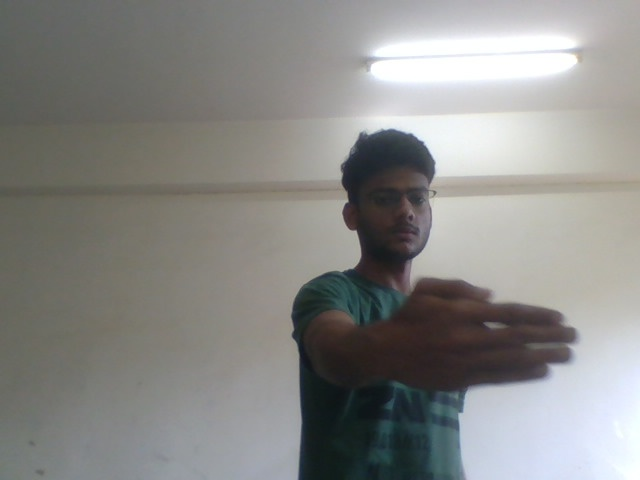Left: (372, 272, 583, 410)
